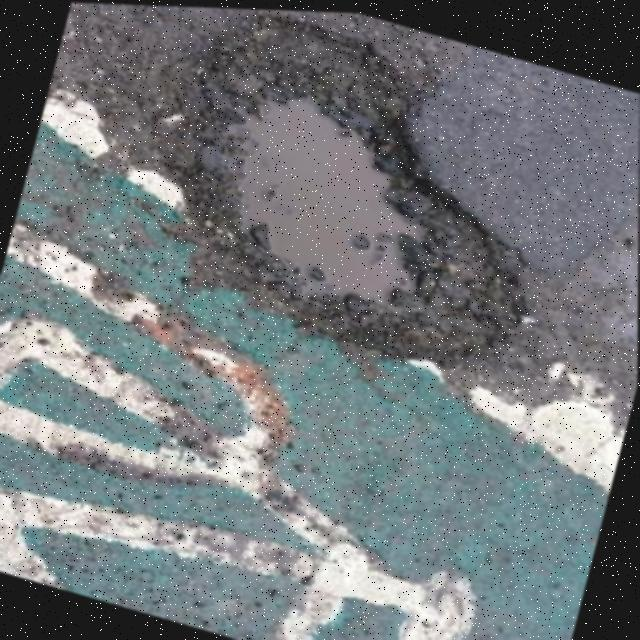pothole: (129, 4, 592, 395)
